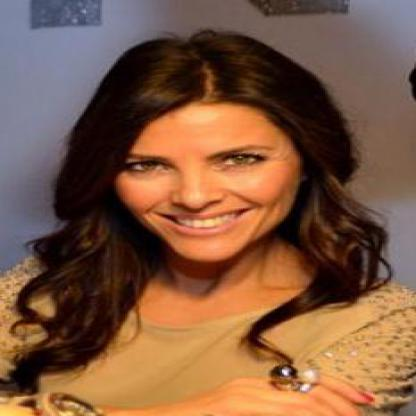long-hair: (22, 264, 382, 303)
